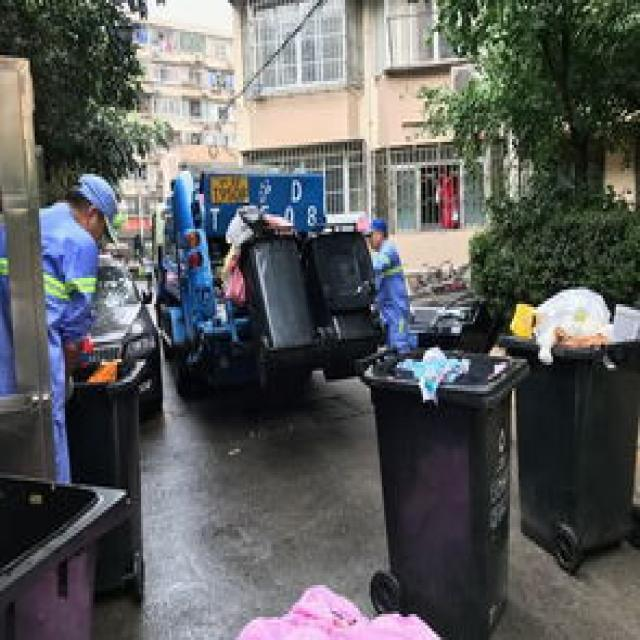overflow: (358, 336, 525, 637), (499, 287, 638, 556), (65, 353, 148, 597)
